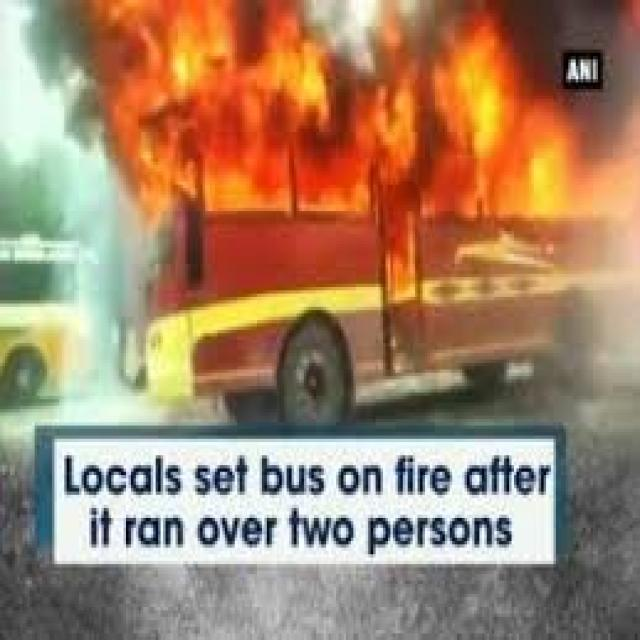Fire: (84, 0, 639, 231)
Smoke: (22, 0, 83, 194)
